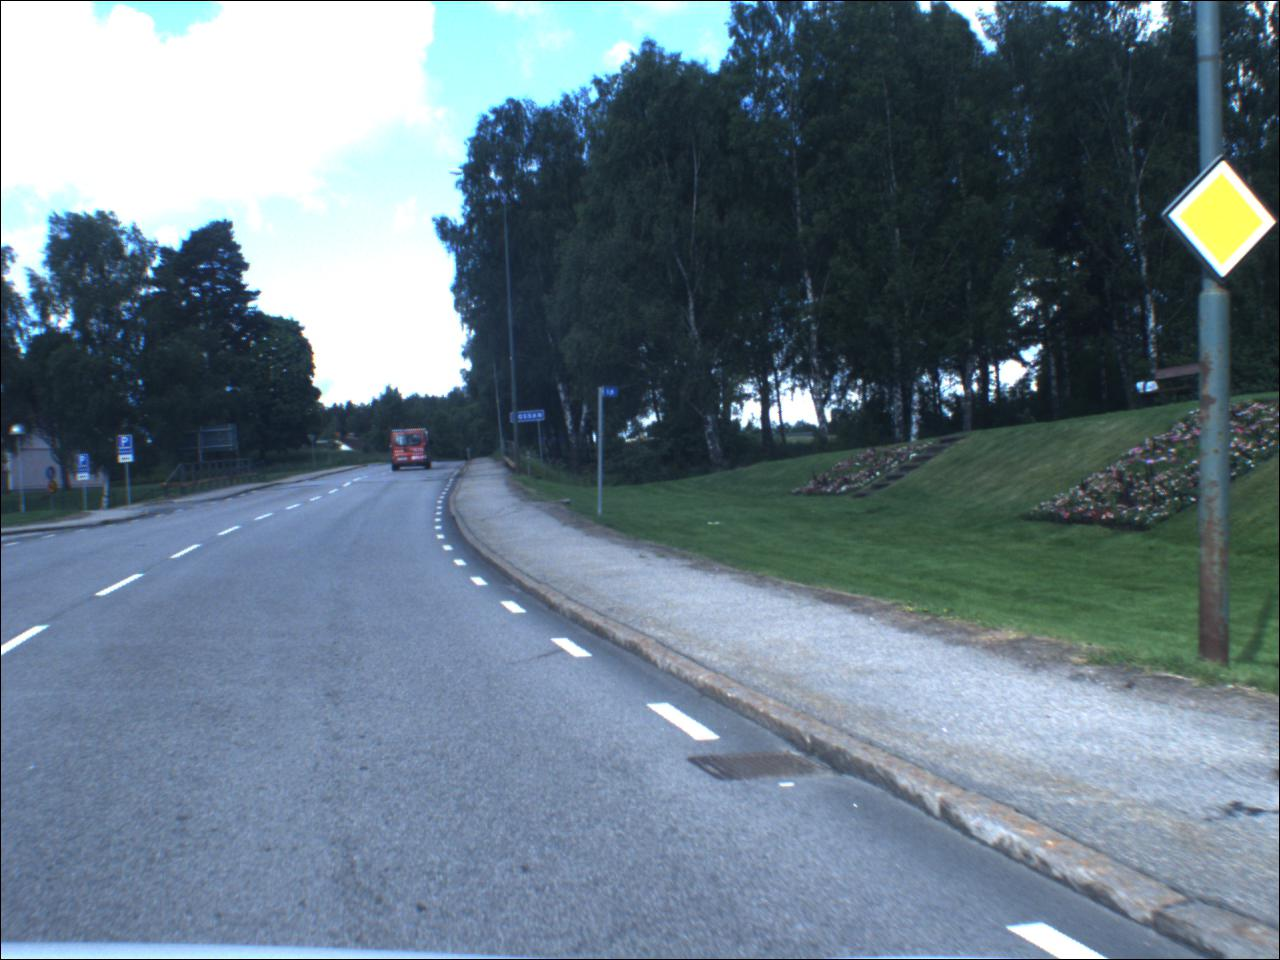PRIORITY_ROAD: (1165, 156, 1278, 285)
